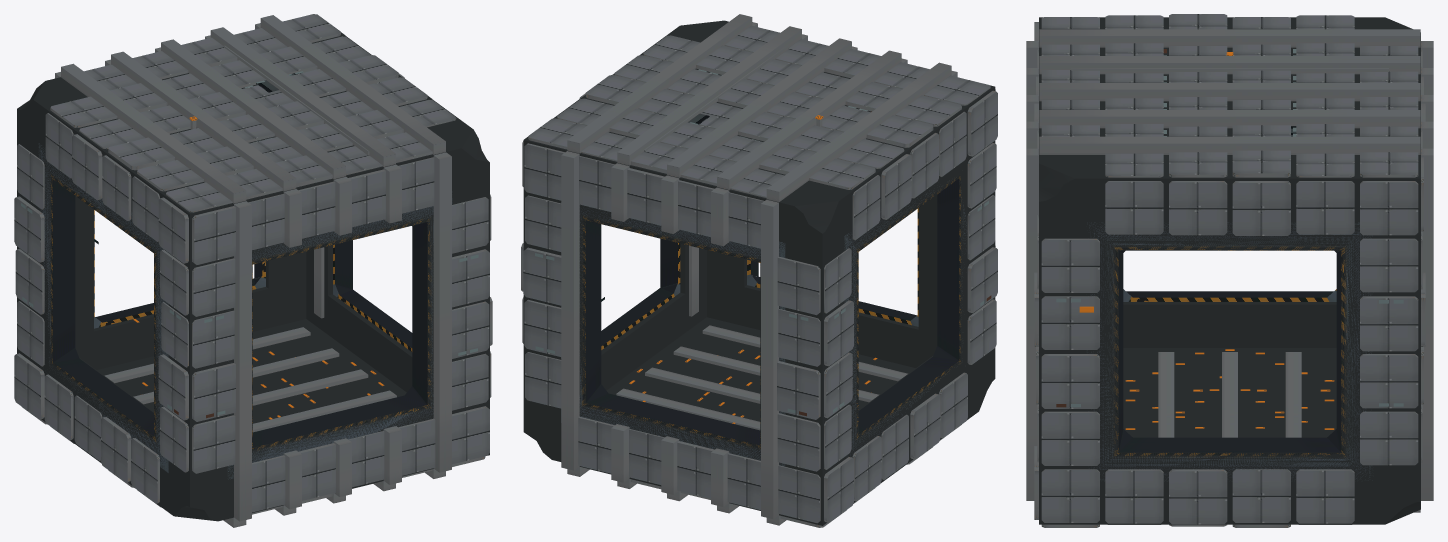
Rendered from kit_room.glb.
3 renders of one model, left to right at view 1: azimuth 30°, elevation 25°; view 2: azimuth 150°, elevation 25°; view 3: azimuth 270°, elevation 25°, orthographic. The views are drawn at different scales.
Visible parts, largest first — view 1: lod0; view 2: lod0; view 3: lod0.
Boxes of the visible parts, x1,y1,x2,y2 form: lod0: [14, 14, 492, 527]; lod0: [521, 14, 997, 527]; lod0: [1026, 14, 1433, 527].
Size of what is drawn, in the model's own units: 123 by 128 by 128.
Materials: 1 (1 with a texture image).
